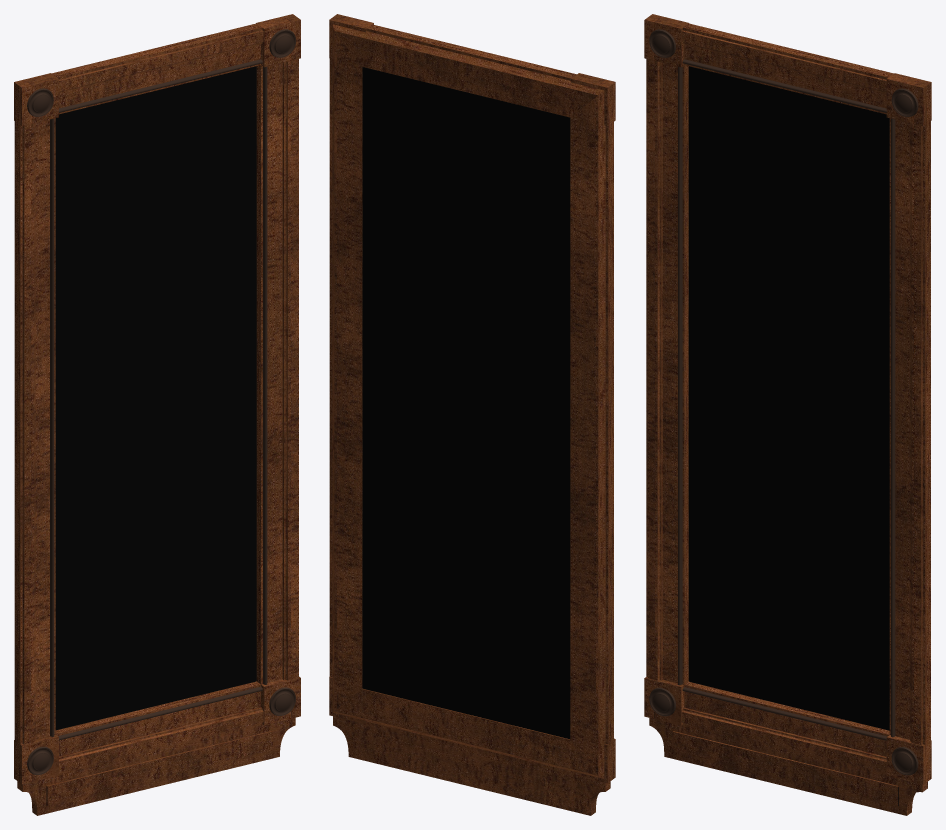
File: mirror.gltf
The picture shows the model from 3 angles, left to right: view 1: azimuth 30°, elevation 25°; view 2: azimuth 150°, elevation 25°; view 3: azimuth 330°, elevation 25°; orthographic projection.
Visible parts, largest first — view 1: Mirror_01; view 2: Mirror_01; view 3: Mirror_01.
Boxes of the visible parts, x1,y1,x2,y2 form: Mirror_01: (14,14,300,815); Mirror_01: (329,14,615,815); Mirror_01: (644,14,931,815).
Size of the model in its own units: 5.38 by 13.53 by 0.4152.
3 materials, 1 textured.
